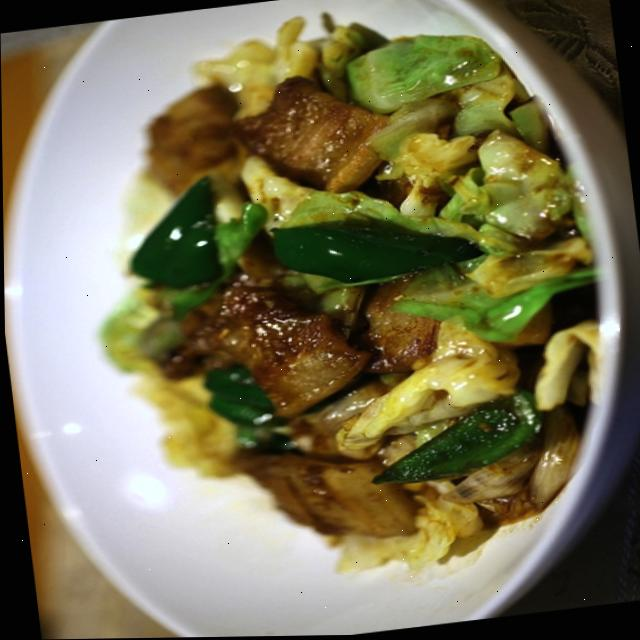猪肉菜式: (78, 5, 606, 605)
